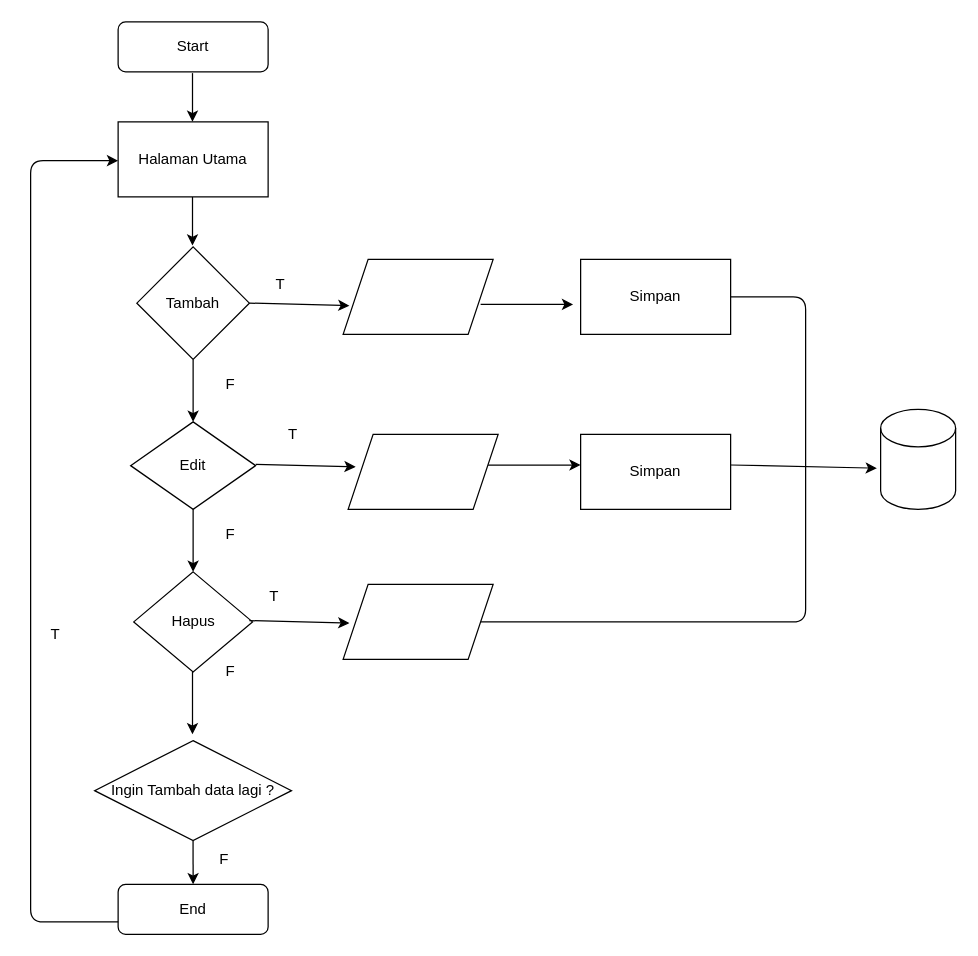
This 978x956 diagram has some shape labels left out. Each missing label, with the centre of its shape:
Db: [917,458]
Edit Data: [422,471]
Hapus data: [417,621]
Input data: [417,296]
